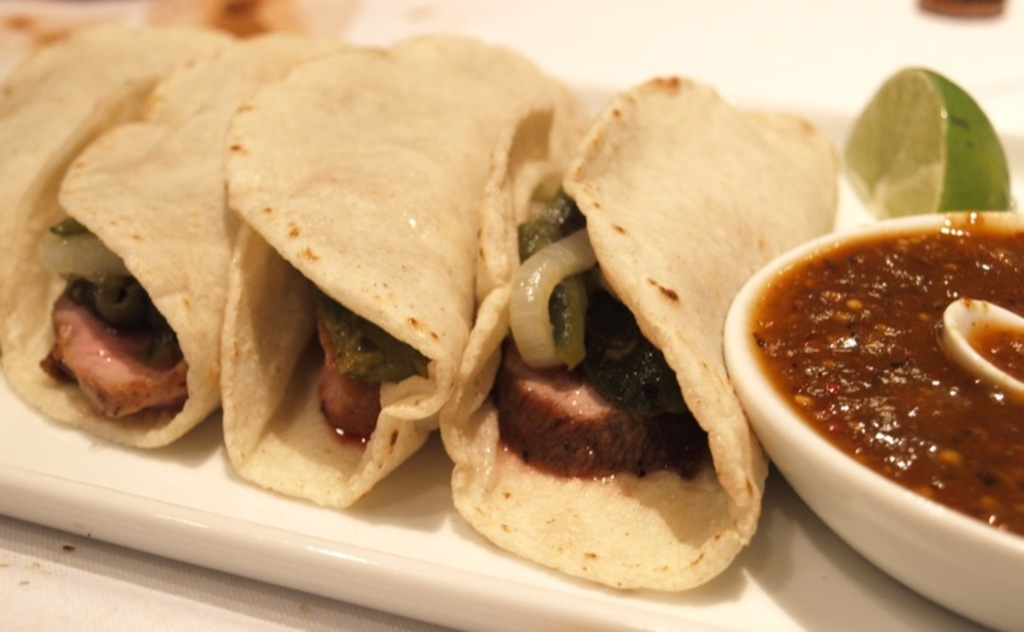taco: (452, 79, 854, 597), (0, 37, 349, 444), (207, 54, 506, 513), (0, 23, 223, 343)
